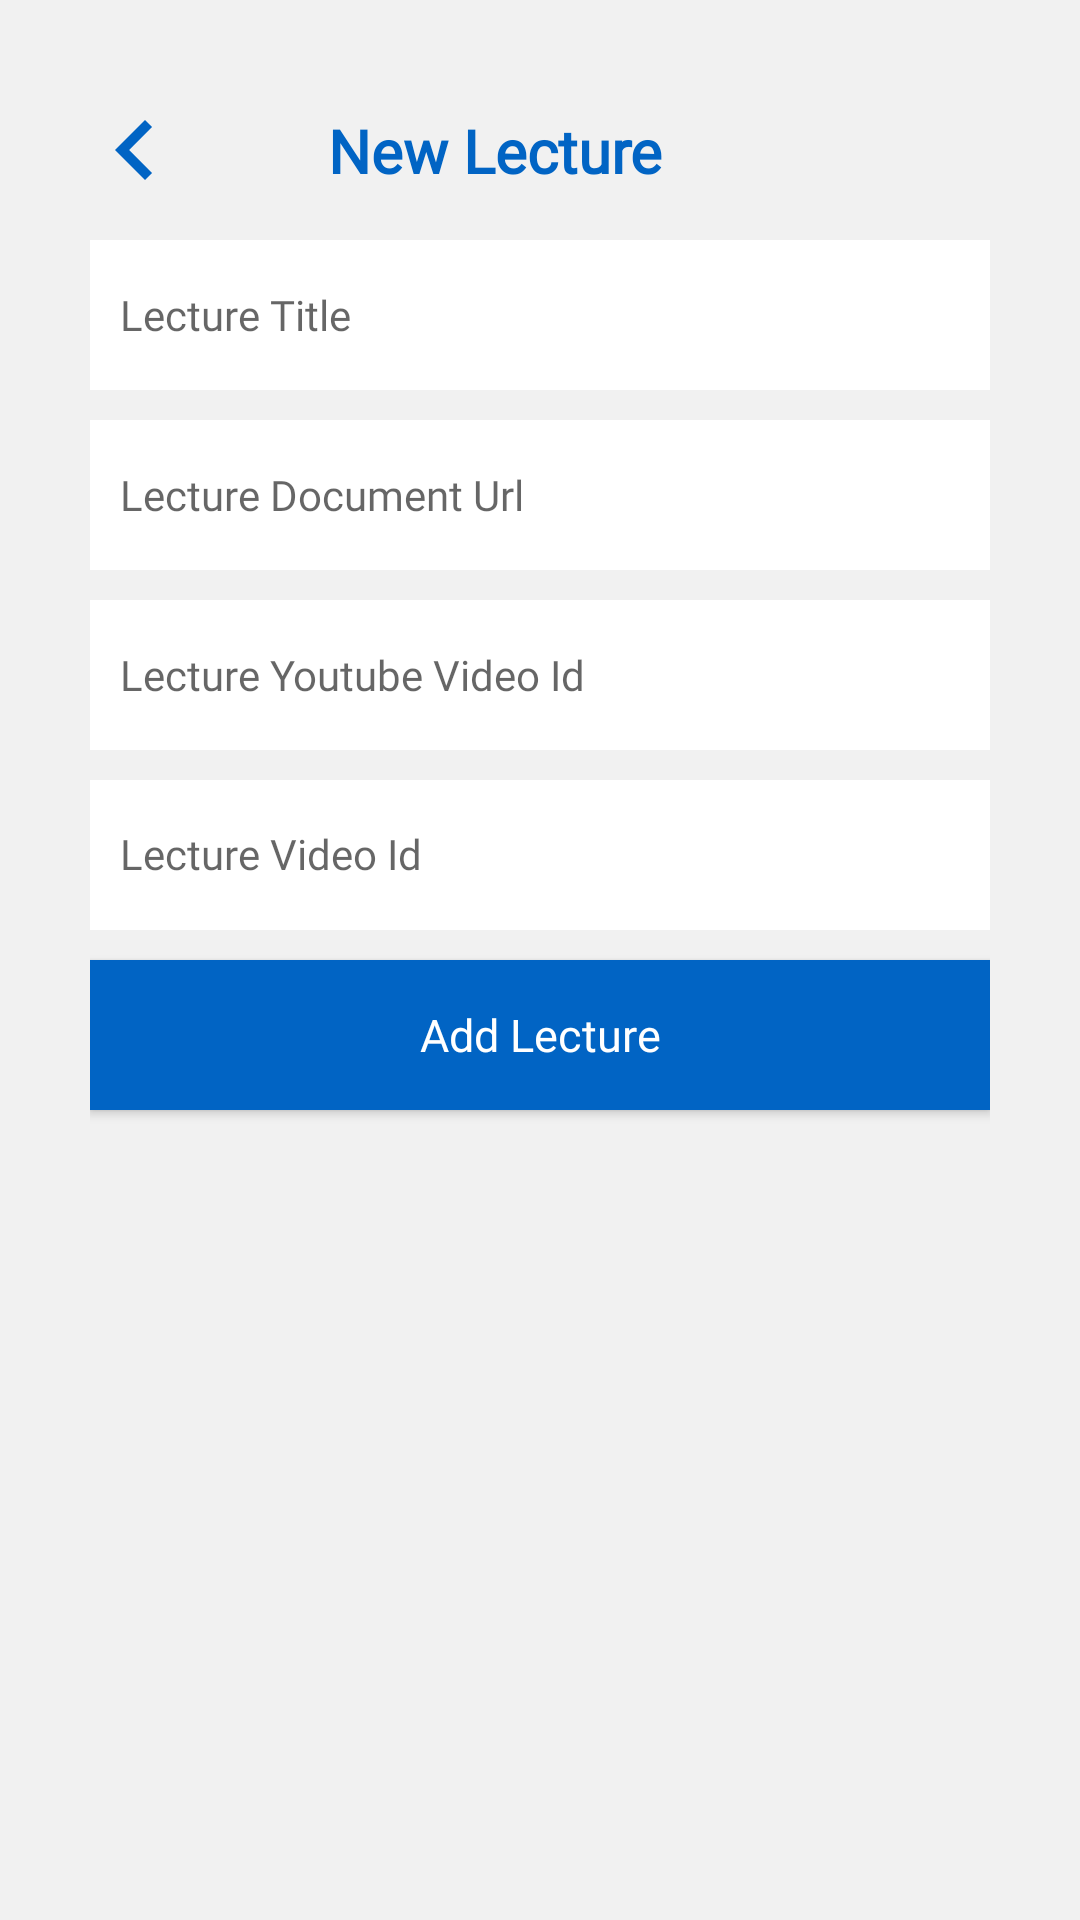

Named icons in this screenshot (1080 × 1920) and their bounding boxes, (x1,y1,x2,y2):
left: (115,120,152,180)
